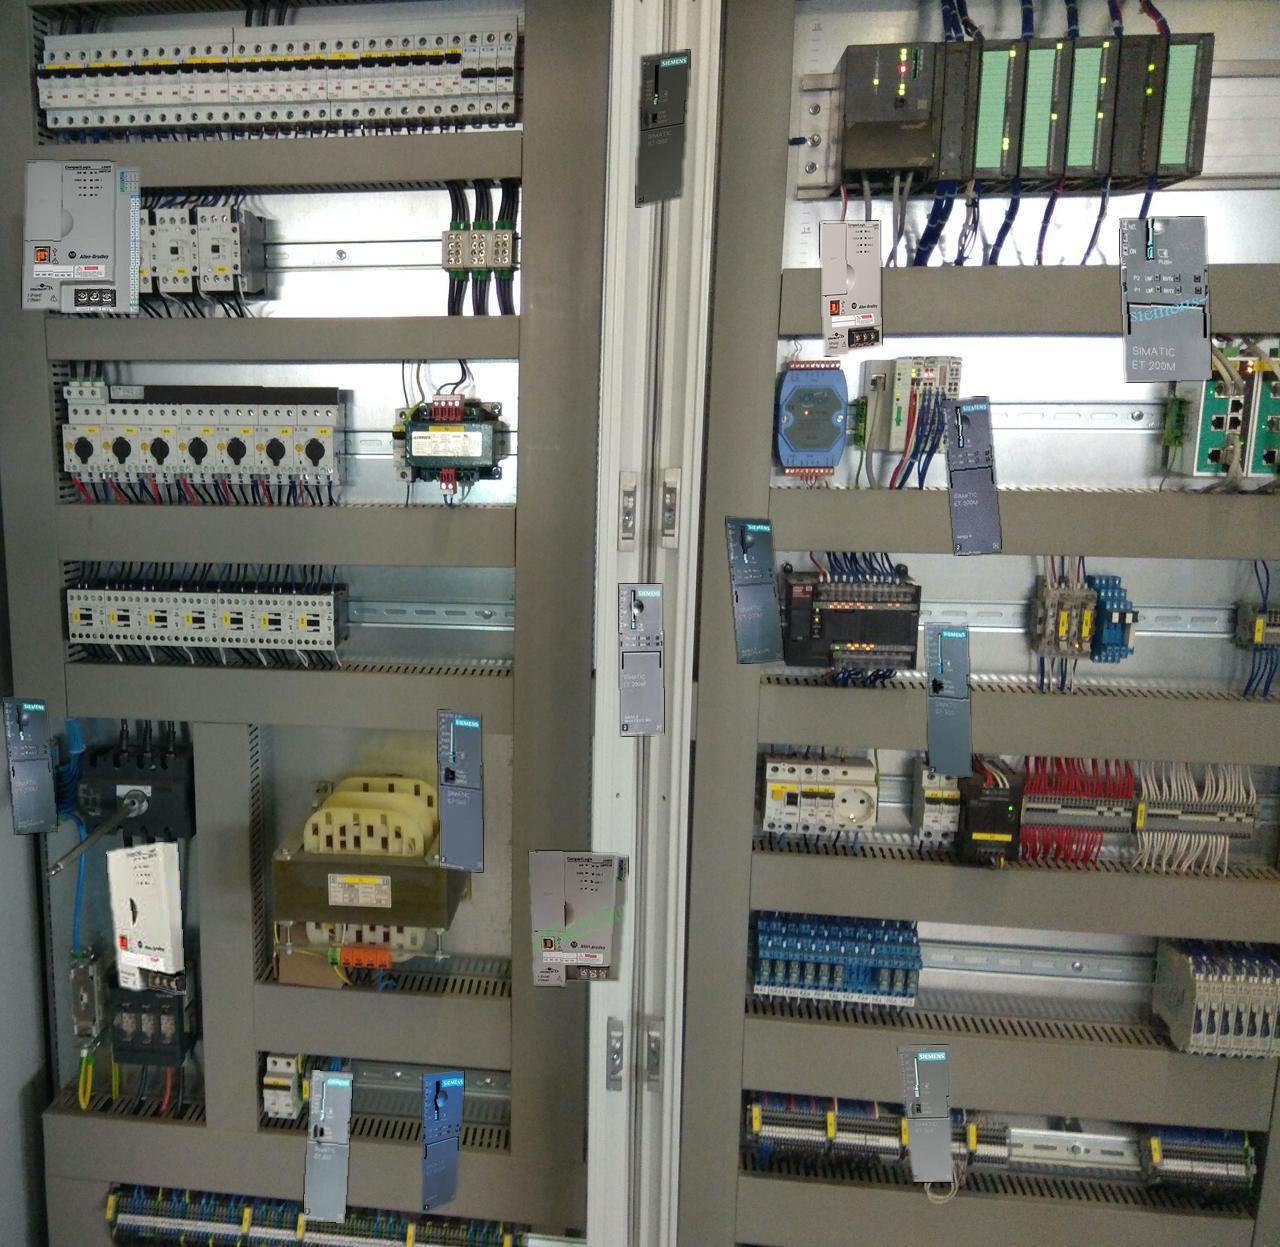AllenBradley: (22, 161, 139, 312), (529, 850, 627, 986), (106, 842, 185, 994), (821, 219, 881, 355)
Siemens: (635, 50, 689, 206), (303, 1070, 352, 1222), (898, 1045, 952, 1181), (438, 710, 482, 871), (925, 624, 971, 777)
